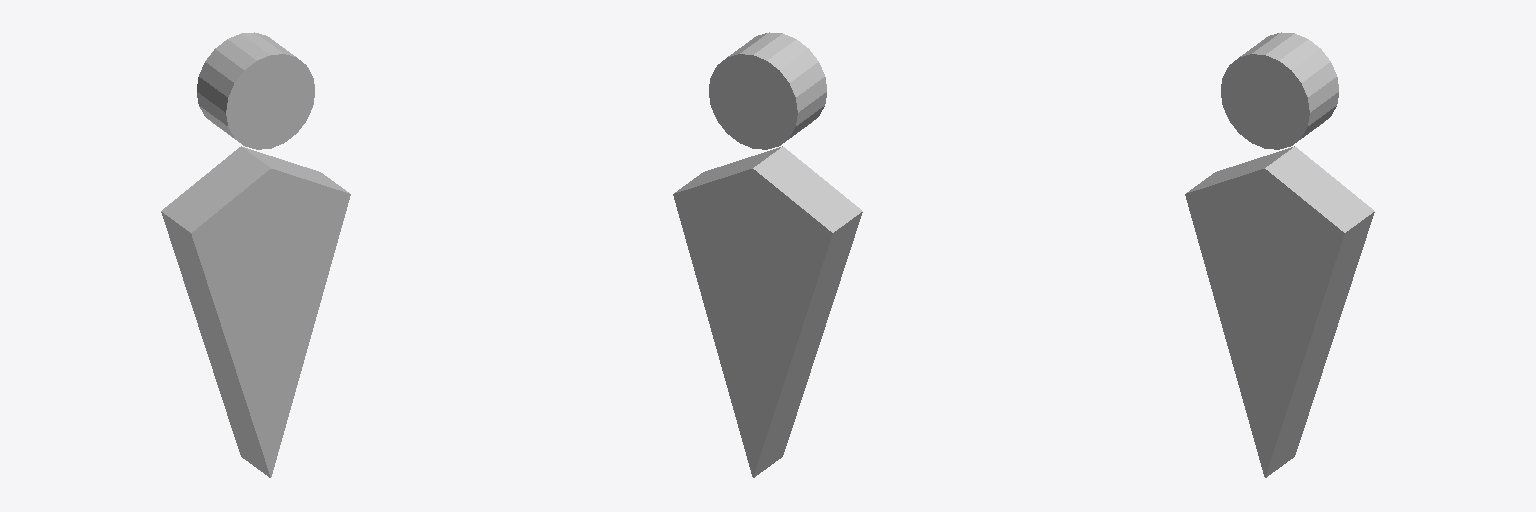
File: Persoon.obj
3 views of the same model, side by side, from view 1: azimuth 30°, elevation 25°; view 2: azimuth 150°, elevation 25°; view 3: azimuth 330°, elevation 25° (orthographic).
Parts seen in each view (by area): view 1: pCube1, pCylinder1; view 2: pCube1, pCylinder1; view 3: pCube1, pCylinder1.
Part boxes in pixels (bbox=[...]): pCube1: bbox=[161, 146, 350, 477]; pCylinder1: bbox=[197, 32, 314, 149]; pCube1: bbox=[673, 146, 862, 477]; pCylinder1: bbox=[709, 32, 826, 149]; pCube1: bbox=[1185, 146, 1374, 477]; pCylinder1: bbox=[1221, 32, 1338, 149].
Bounding box in the file's own units: 1.35 × 3.42 × 0.442.